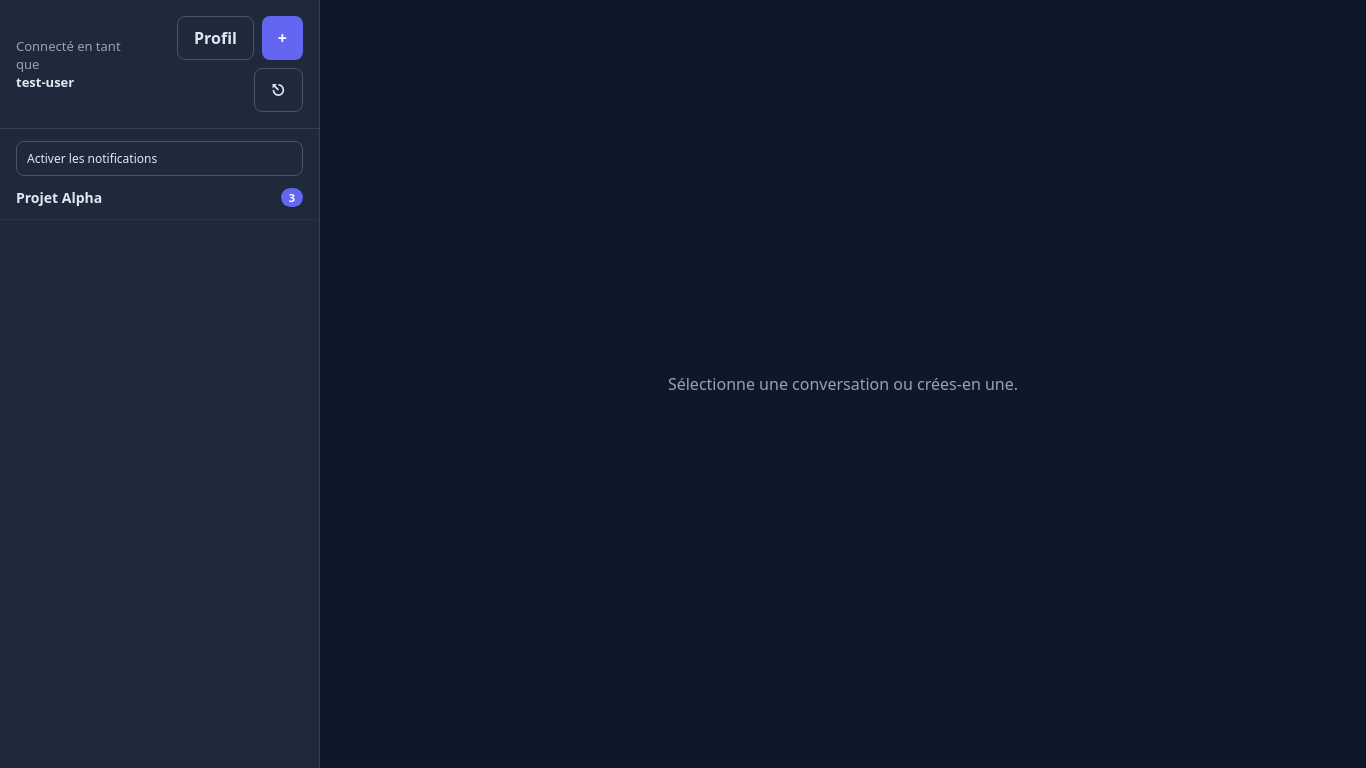
Test: real-time recovery › marks an unread conversation as read immediately when it is opened
Expected: the text with class "badge" reads "3", x1=289 y1=190 x2=295 y2=205
Click the text "Projet Alpha": (160, 198) x1=0 y1=176 x2=319 y2=220
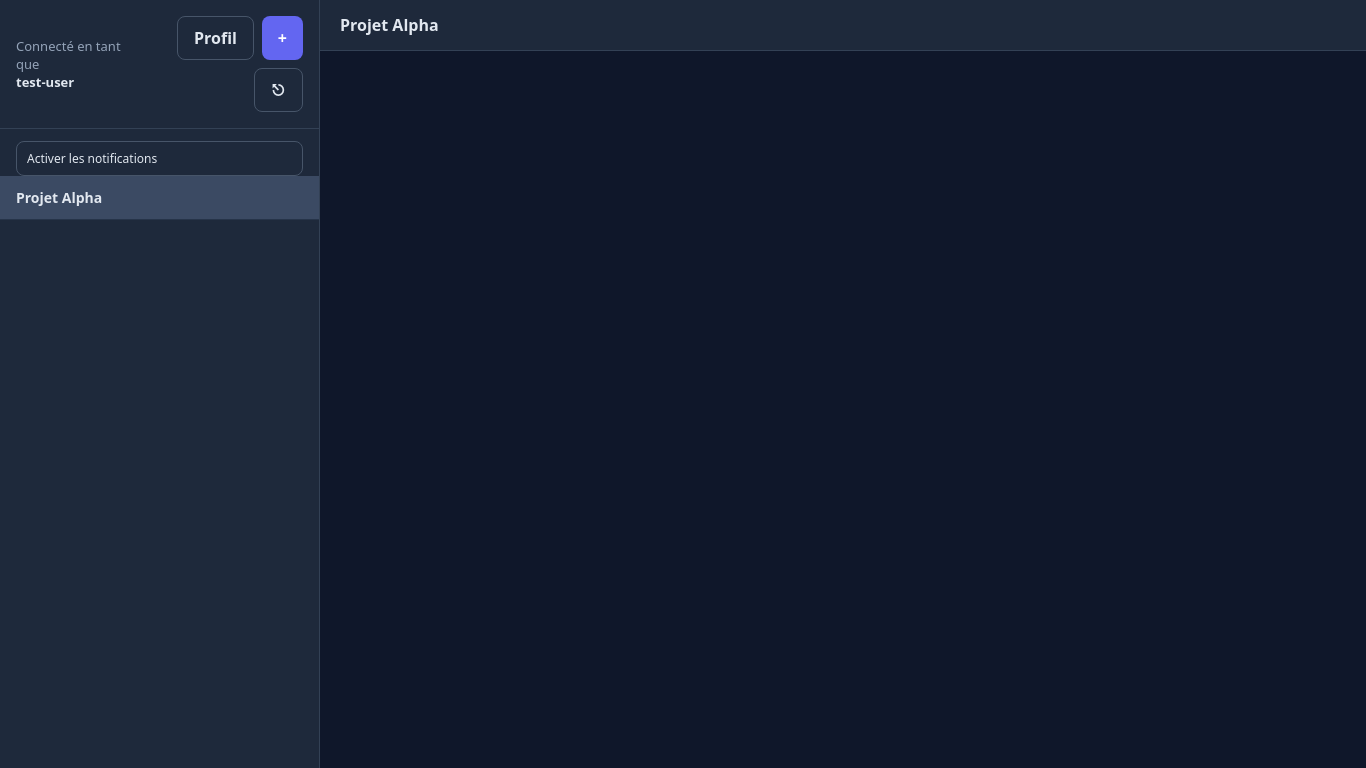
Expected: the text with class "badge" is gone
